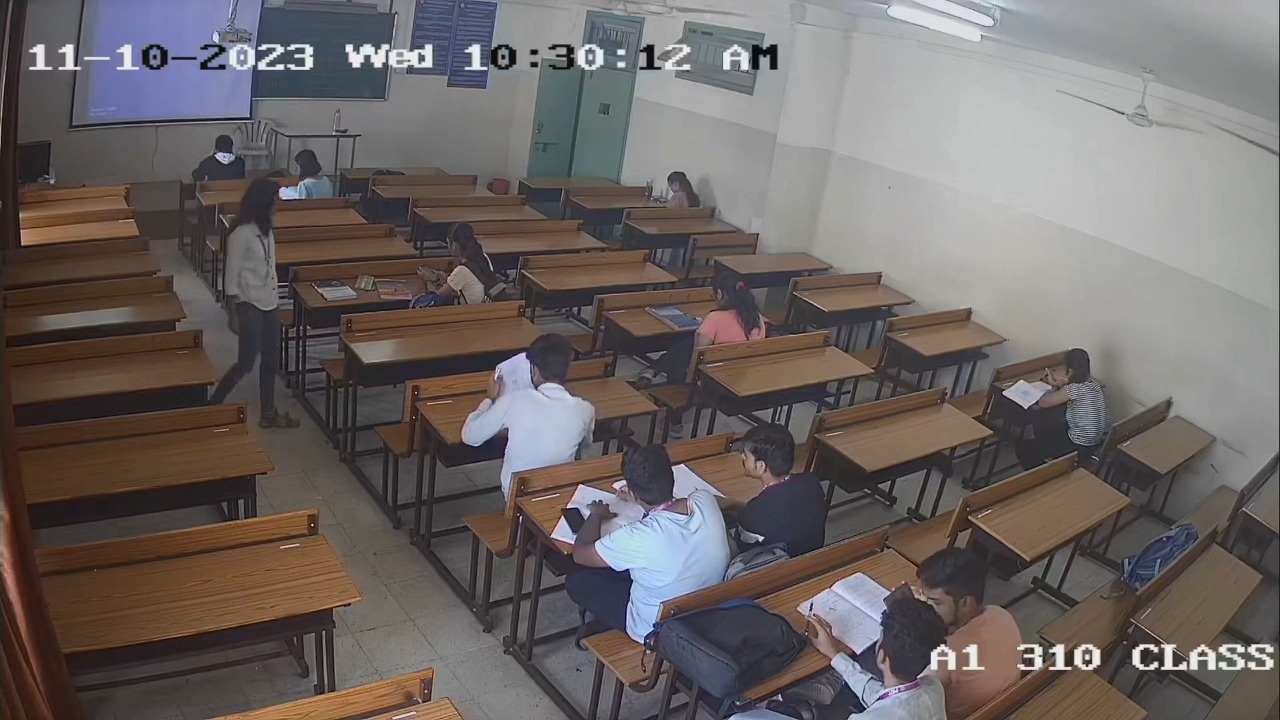cell-phones: (560, 506, 592, 536)
person: (576, 442, 733, 619)
